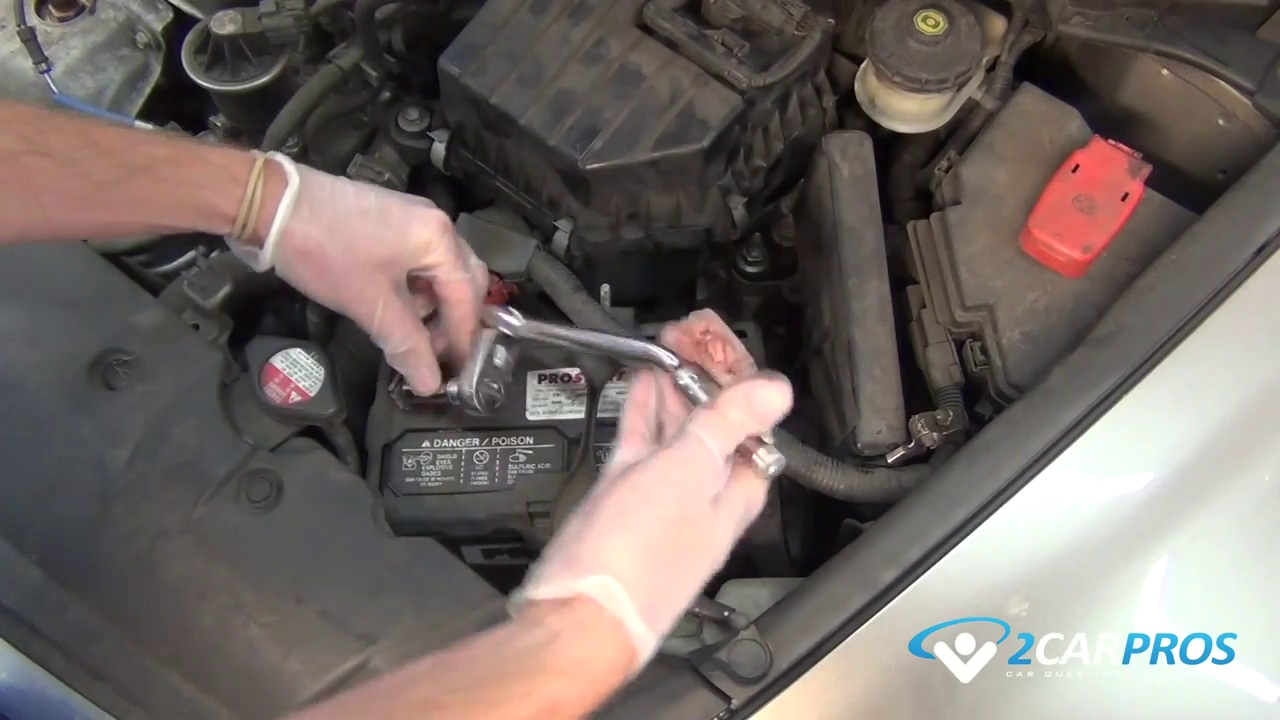battery: (382, 296, 773, 526)
